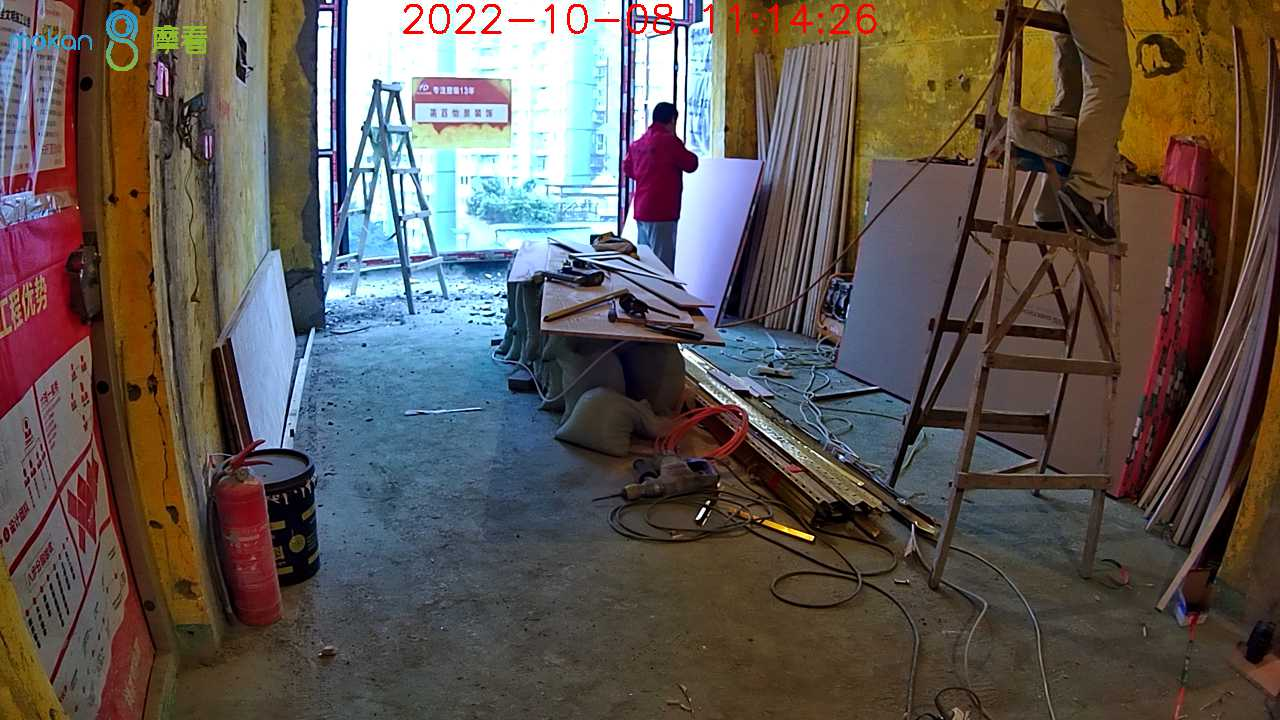people: (624, 100, 697, 289)
window: (316, 2, 716, 261)
